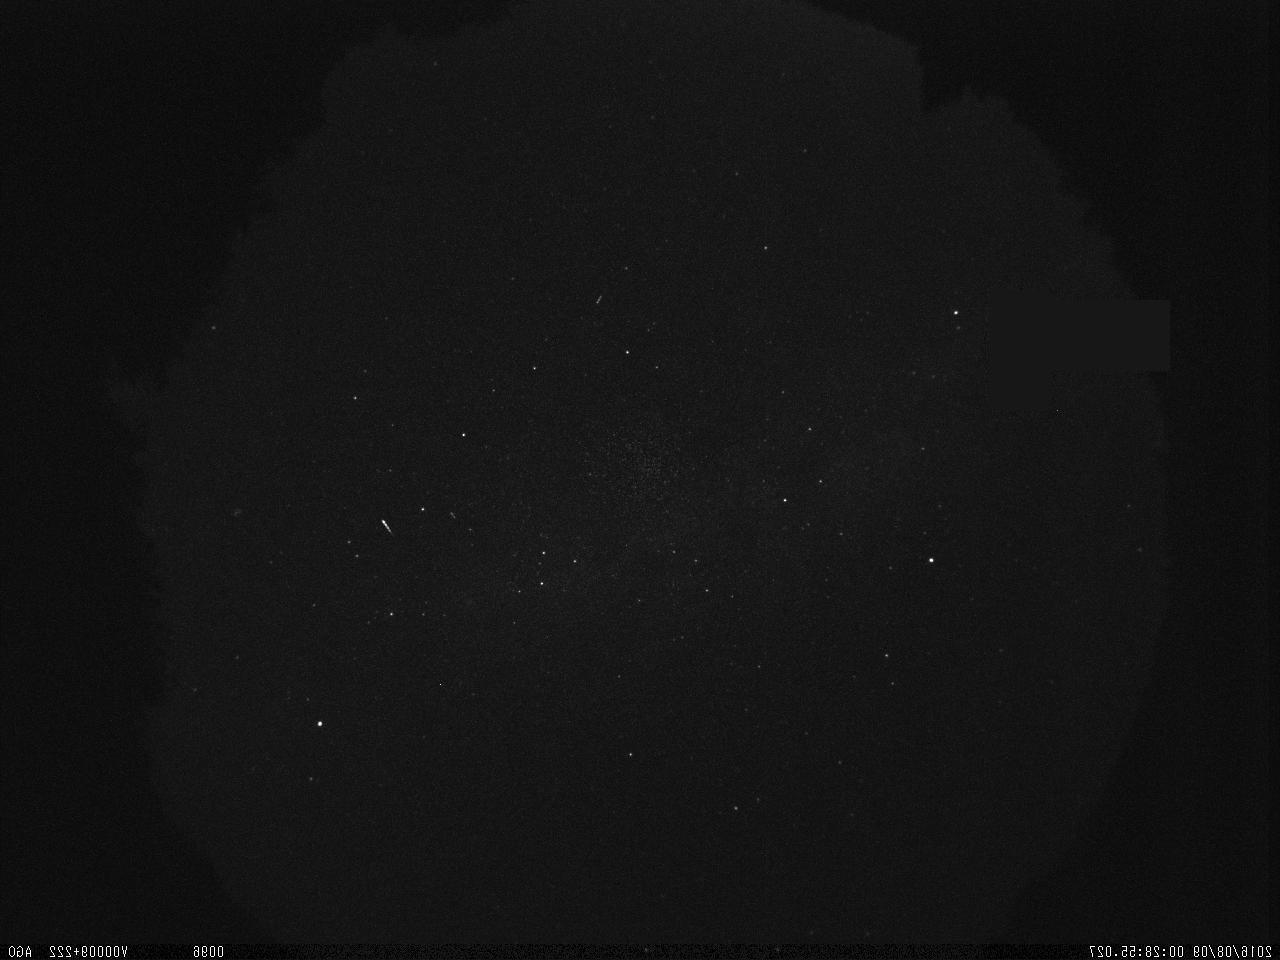meteor: (370, 516, 393, 539)
